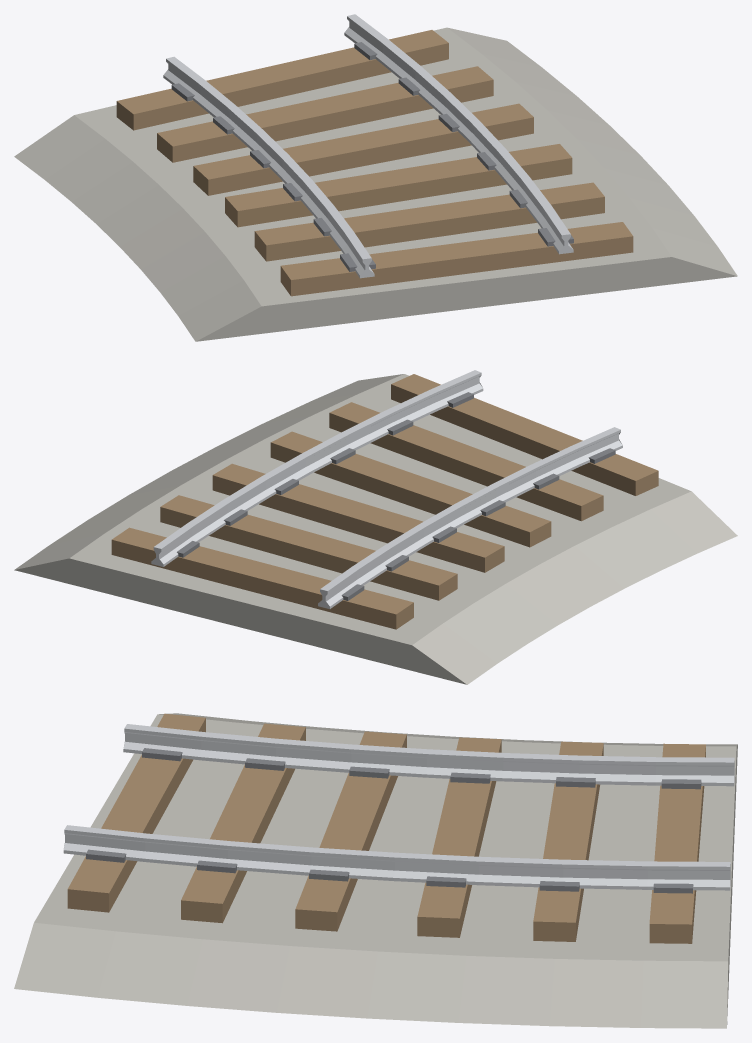
The model's file is steam-era-railway-and-rolling-stock-track-curve-15deg-43b236be.glb.
3 renders of one model, top to bottom at view 1: azimuth 30°, elevation 25°; view 2: azimuth 150°, elevation 25°; view 3: azimuth 270°, elevation 25°, orthographic. The views are drawn at different scales.
Parts seen in each view (by area): view 1: track-curve-15deg; view 2: track-curve-15deg; view 3: track-curve-15deg.
Part boxes in pixels (x1,y1,x2,y2): track-curve-15deg: [14, 14, 737, 341]; track-curve-15deg: [14, 370, 737, 684]; track-curve-15deg: [14, 713, 737, 1028].
Size of the model in its own units: 4.55 by 0.4999 by 4.41.
